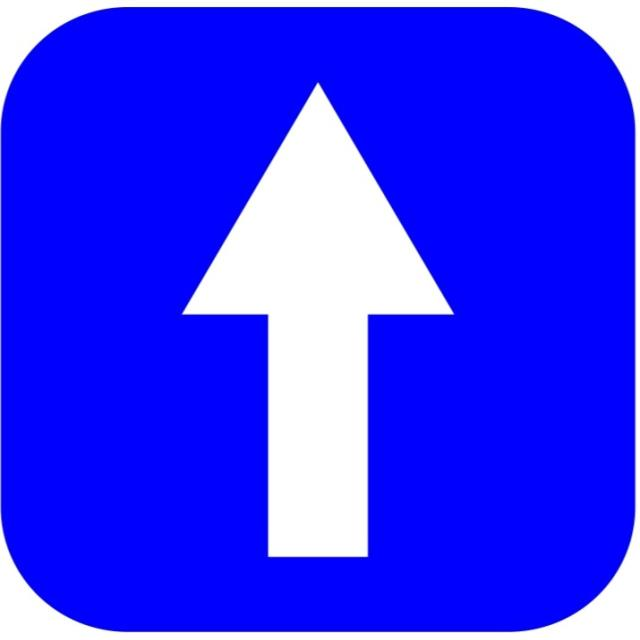one_way: (2, 4, 639, 632)
